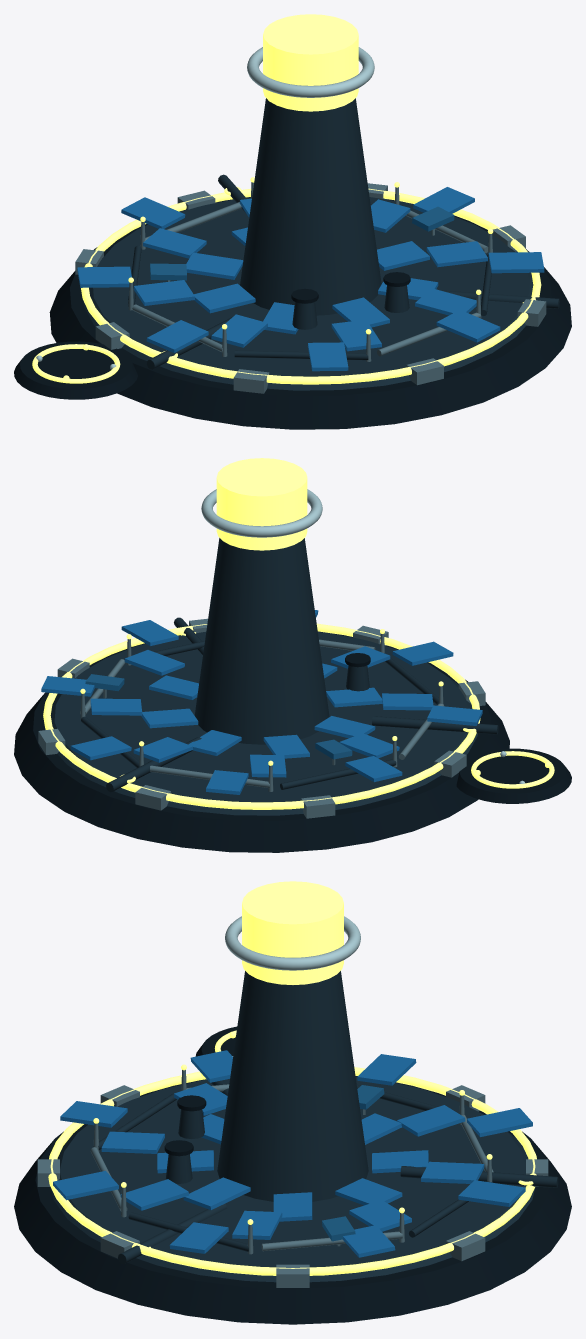
The model's file is solarPlant-stage1.glb.
The picture shows the model from 3 angles, top to bottom: view 1: azimuth 30°, elevation 25°; view 2: azimuth 150°, elevation 25°; view 3: azimuth 270°, elevation 25°; orthographic projection. The views are drawn at different scales.
Visible parts, largest first — view 1: upper-deck, receiver-tower, armored-foundation, plasma-receiver, perimeter-light, landing-pad, detail, heliostat-2-1, heliostat-1-0, heliostat-1-4, heliostat-2-3, heliostat-1-5 (+29 smaller); view 2: upper-deck, receiver-tower, armored-foundation, plasma-receiver, perimeter-light, landing-pad, detail, utility-conduit-1, landing-guidance-light, heliostat-2-2, heliostat-2-6, heliostat-1-0 (+26 smaller); view 3: upper-deck, armored-foundation, receiver-tower, plasma-receiver, perimeter-light, detail, heliostat-2-6, heliostat-0-1, heliostat-2-5, heliostat-1-5, heliostat-2-1, heliostat-1-2 (+27 smaller).
Part boxes in pixels (x1,y1,x2,y2): upper-deck: (83, 197, 533, 390); receiver-tower: (240, 98, 381, 315); armored-foundation: (49, 197, 571, 429); plasma-receiver: (263, 14, 358, 111); perimeter-light: (81, 188, 541, 384); landing-pad: (14, 341, 137, 399); detail: (247, 47, 374, 97); heliostat-2-1: (436, 310, 500, 342); heliostat-1-0: (426, 241, 487, 267); heliostat-1-4: (133, 280, 194, 305); heliostat-2-3: (146, 320, 208, 352); heliostat-1-5: (143, 228, 206, 258); upper-deck: (45, 632, 477, 815); receiver-tower: (194, 538, 329, 744); armored-foundation: (14, 631, 509, 852); plasma-receiver: (216, 458, 307, 550); perimeter-light: (43, 623, 480, 809); landing-pad: (456, 748, 571, 803); detail: (201, 489, 322, 537); utility-conduit-1: (372, 716, 498, 734); landing-guidance-light: (471, 751, 554, 788); heliostat-2-2: (392, 641, 453, 665); heliostat-2-6: (70, 736, 131, 760); heliostat-1-0: (124, 650, 184, 675); upper-deck: (50, 1076, 535, 1282); armored-foundation: (14, 1076, 571, 1324); receiver-tower: (217, 971, 368, 1201); plasma-receiver: (242, 881, 343, 984); perimeter-light: (48, 1067, 536, 1275); detail: (225, 916, 360, 970); heliostat-2-6: (458, 1180, 525, 1206); heliostat-0-1: (183, 1177, 250, 1209); heliostat-2-5: (467, 1108, 532, 1137); heliostat-1-5: (397, 1105, 465, 1136); heliostat-2-1: (53, 1170, 118, 1200); heliostat-1-2: (101, 1131, 164, 1153).
Size of the model in its own units: 9.97 by 5.13 by 8.53.
